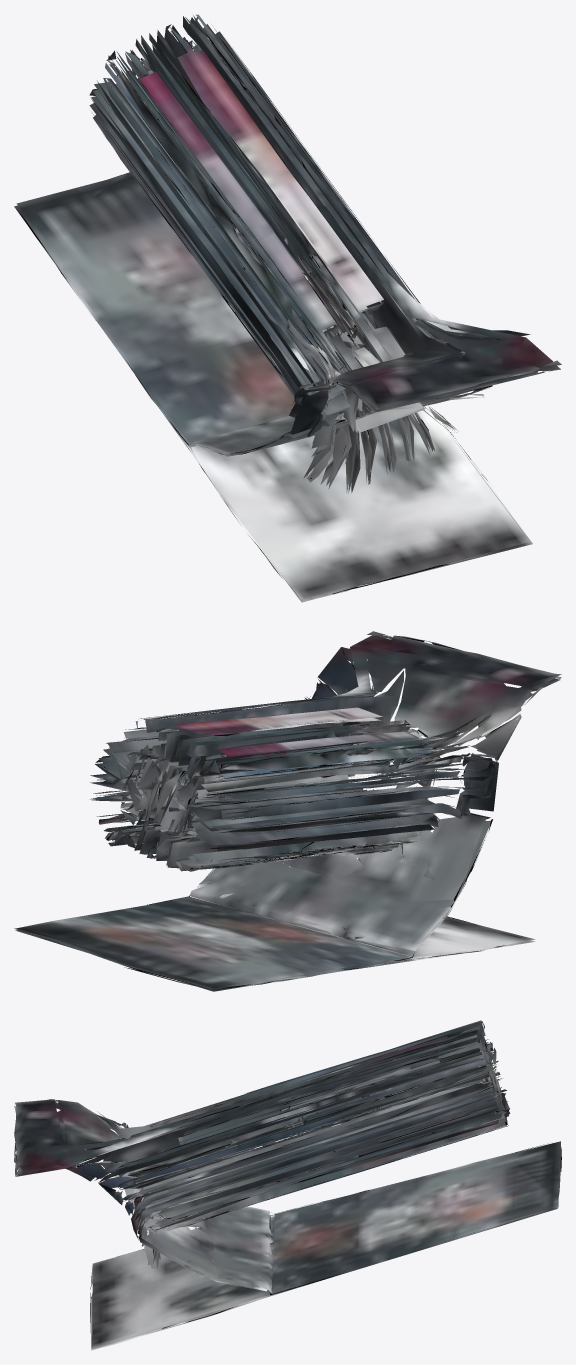
File: vardos-kestro-tower.lo.glb
3 renders of one model, top to bottom at view 1: azimuth 30°, elevation 25°; view 2: azimuth 150°, elevation 25°; view 3: azimuth 270°, elevation 25°, orthographic. The views are drawn at different scales.
Visible parts, largest first — view 1: low; view 2: low; view 3: low.
Boxes of the visible parts, x1=… form: low: x1=14, y1=14, x2=561, y2=602; low: x1=14, y1=631, x2=561, y2=991; low: x1=14, y1=1020, x2=561, y2=1350.
Size of the model in its own units: 0.3678 by 0.5565 by 0.9656.
Materials: 1 (1 with a texture image).
